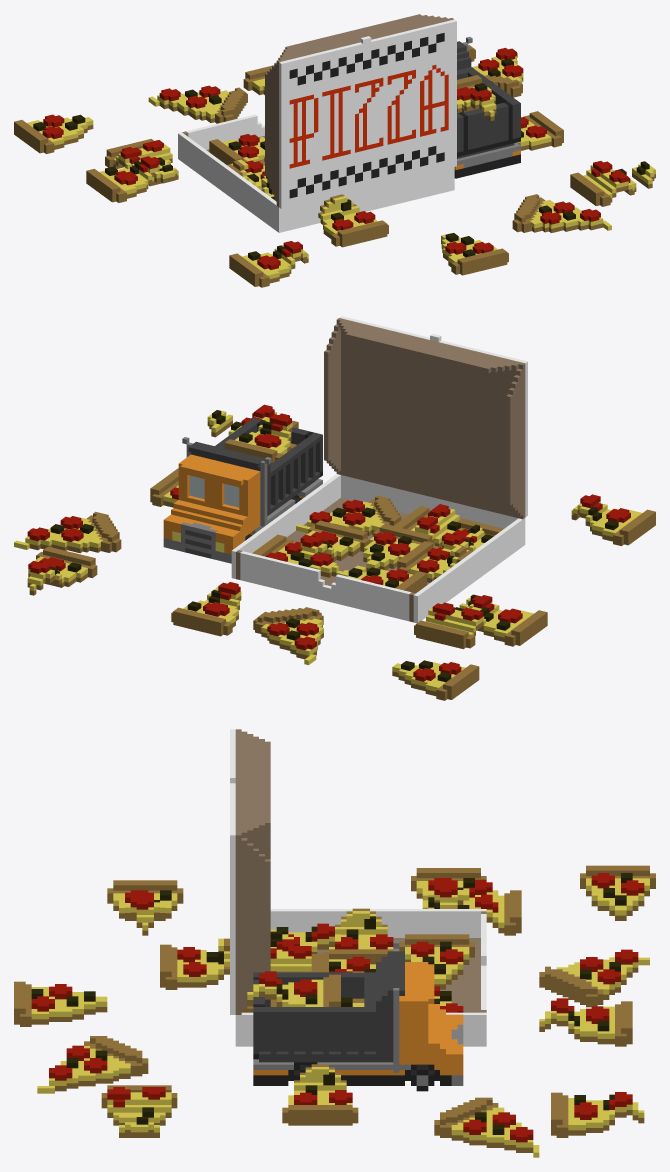
Rendered from pizza-1.obj.
The picture shows the model from 3 angles, top to bottom: view 1: azimuth 30°, elevation 25°; view 2: azimuth 150°, elevation 25°; view 3: azimuth 270°, elevation 25°; orthographic projection. The views are drawn at different scales.
Parts seen in each view (by area): view 1: pizza-1; view 2: pizza-1; view 3: pizza-1.
Part boxes in pixels (x1,y1,x2,y2): pizza-1: (14,14,655,287); pizza-1: (14,316,655,700); pizza-1: (14,729,655,1157).
Bounding box in the file's own units: 112 × 41 × 110.
Materials: 1 (1 with a texture image).
